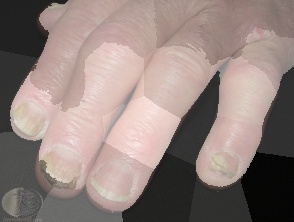Nail_psoriasis: (80, 145, 155, 219), (29, 133, 97, 203), (1, 84, 64, 147), (194, 137, 253, 191)
